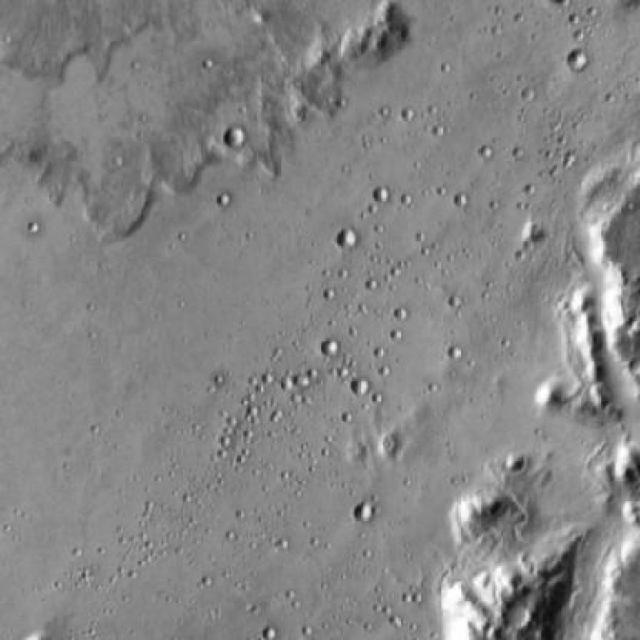crater: (224, 127, 244, 147), (336, 228, 356, 248), (568, 50, 588, 70), (355, 504, 374, 522), (350, 379, 368, 398), (318, 338, 336, 356)
